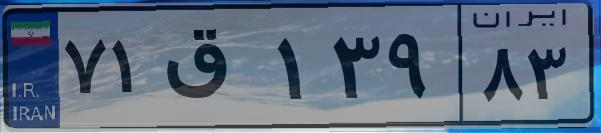1: (270, 28, 330, 110), (110, 28, 158, 98)
3: (330, 28, 385, 110), (525, 38, 570, 115)
7: (57, 26, 110, 100)
8: (475, 38, 525, 113)
9: (385, 28, 445, 110)
ق: (158, 20, 270, 120)
